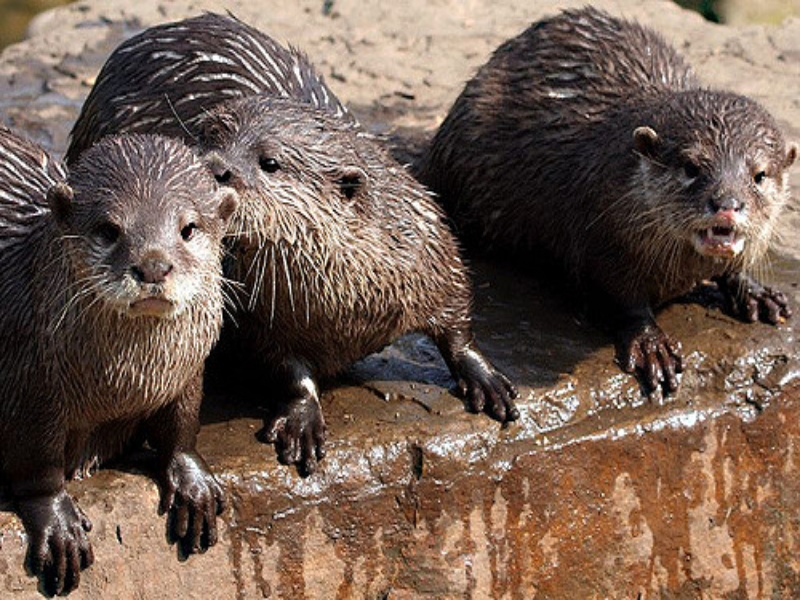minkish: (76, 11, 522, 479), (415, 8, 798, 395), (1, 119, 226, 596)
